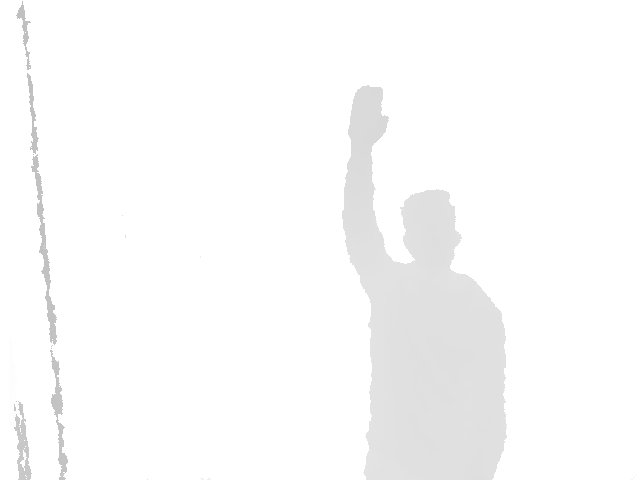hand: (347, 85, 389, 150)
head: (400, 189, 461, 266)
person: (341, 85, 509, 480)
